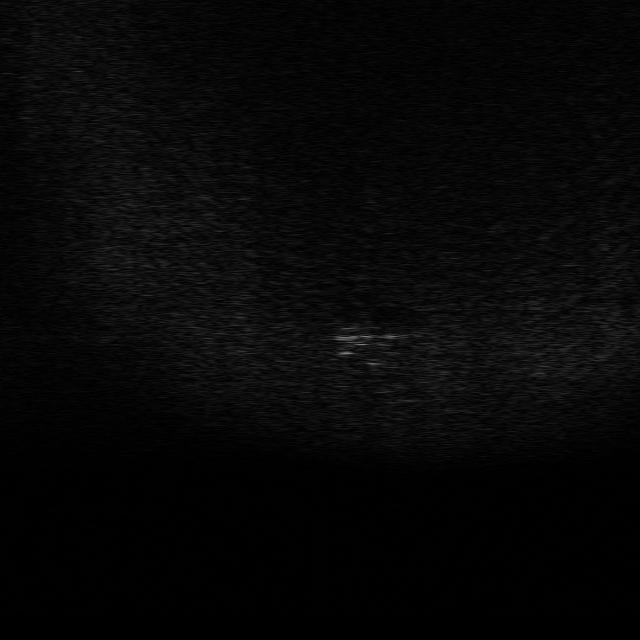plane: (322, 318, 403, 357)
